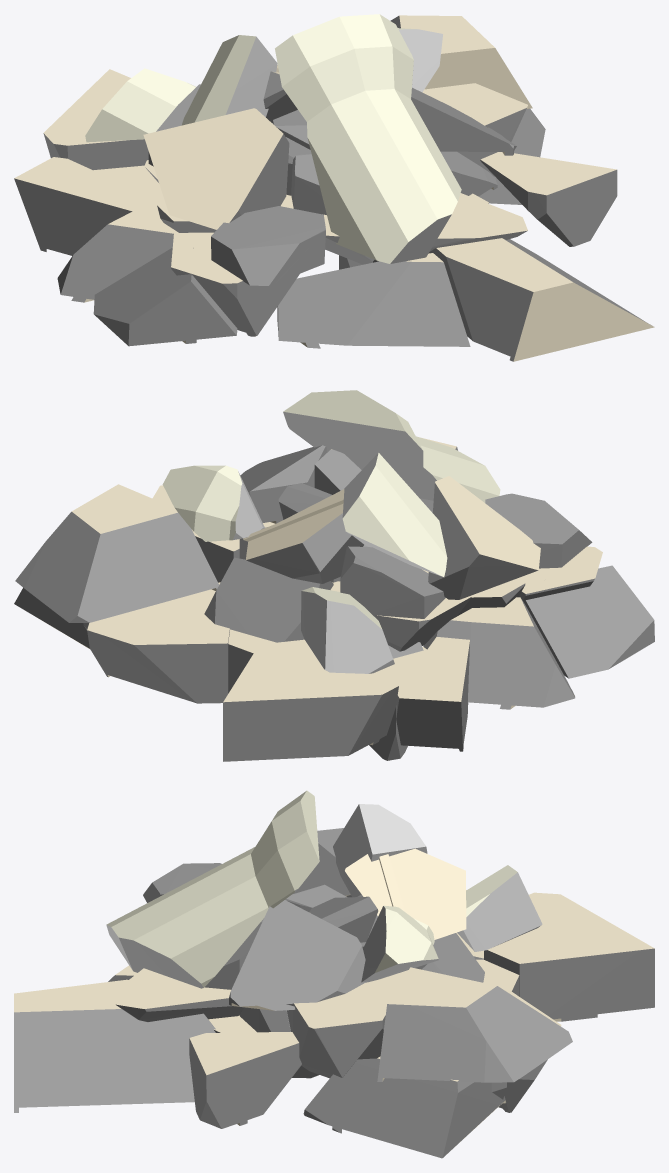
The model's file is Celing_obstacle0.fbx.
The picture shows the model from 3 angles, top to bottom: view 1: azimuth 30°, elevation 25°; view 2: azimuth 150°, elevation 25°; view 3: azimuth 270°, elevation 25°; orthographic projection. The views are drawn at different scales.
Parts seen in each view (by area): view 1: Celing_obstacle0; view 2: Celing_obstacle0; view 3: Celing_obstacle0.
Part boxes in pixels (x1,y1,x2,y2): Celing_obstacle0: (14, 14, 654, 361); Celing_obstacle0: (14, 390, 654, 761); Celing_obstacle0: (14, 790, 654, 1158).
Bounding box in the file's own units: 302 × 141 × 323.
